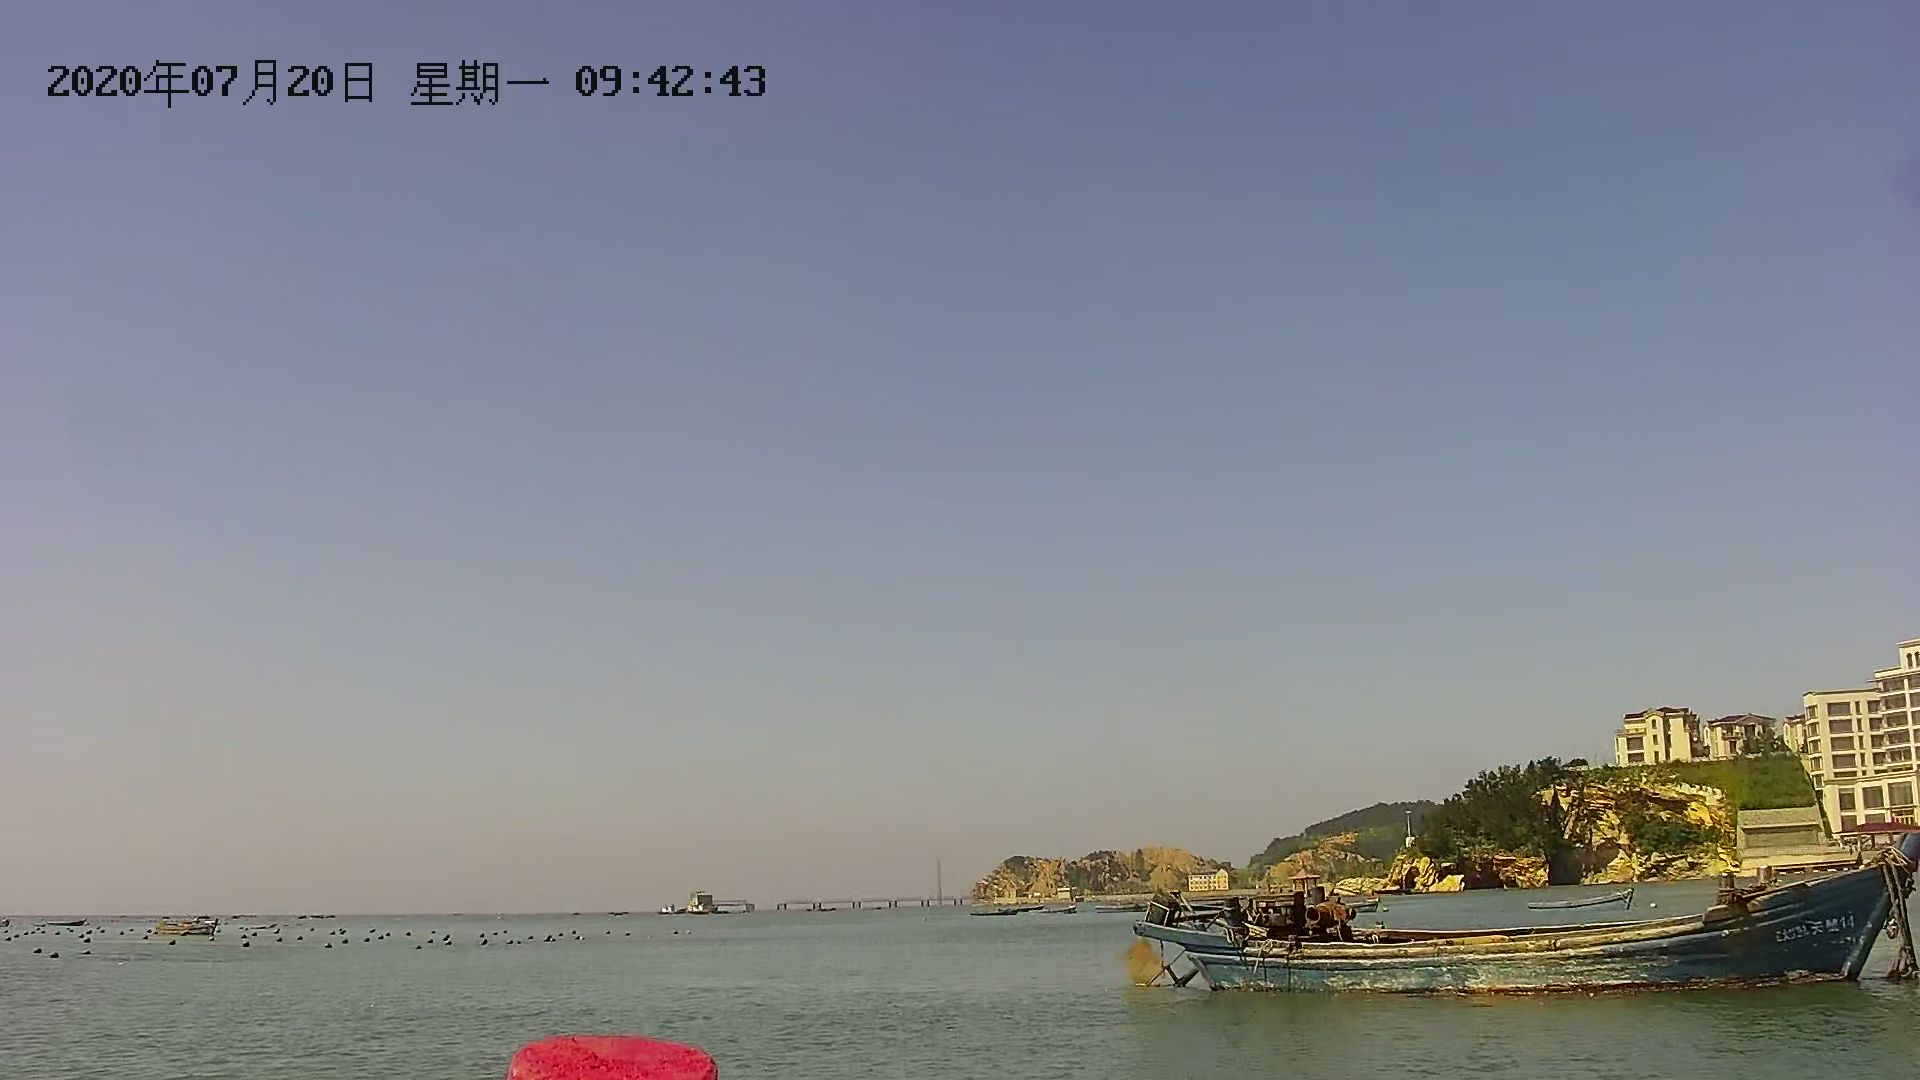boat: (1118, 870, 1920, 1010), (153, 913, 218, 939), (971, 905, 1039, 920), (1098, 897, 1155, 913), (40, 915, 91, 928)
